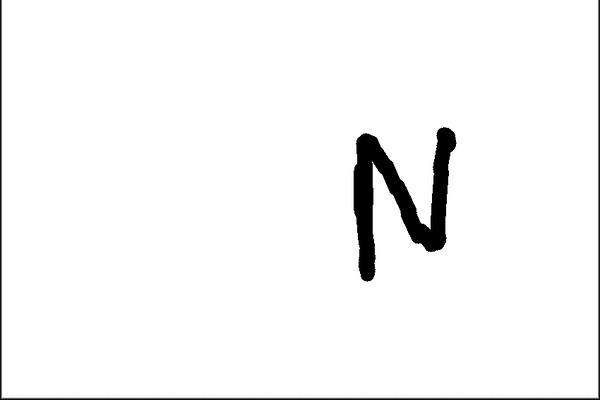N: (343, 120, 460, 286)
